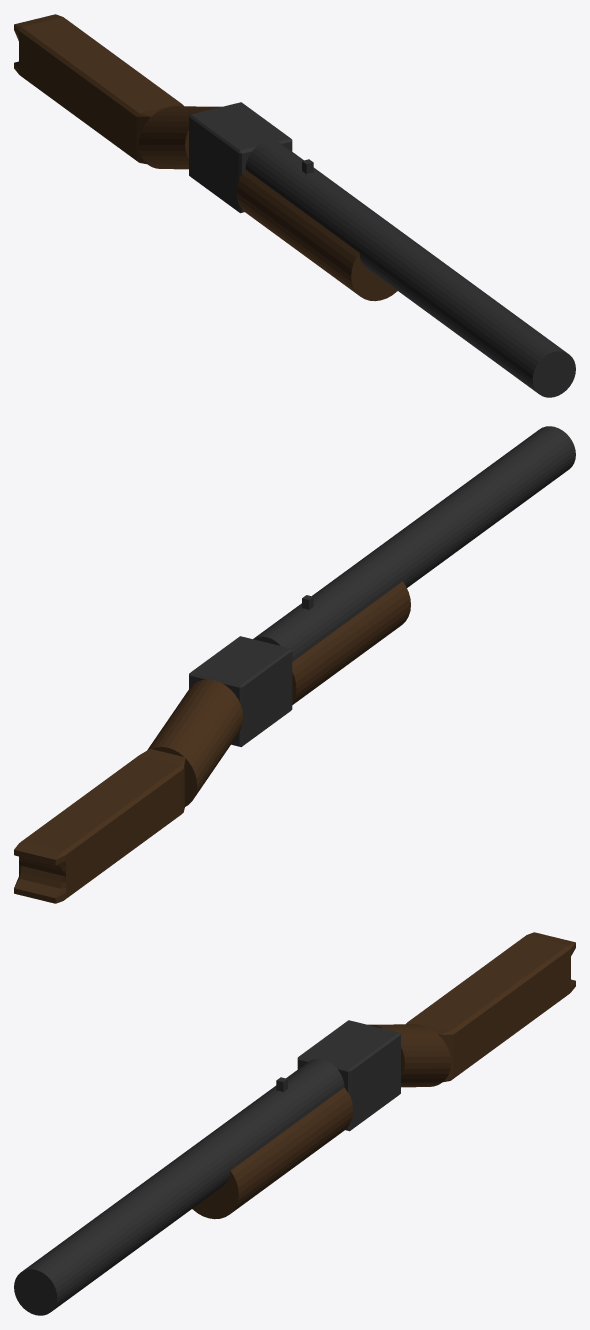
The model's file is RifleWIP.fbx.
The picture shows the model from 3 angles, top to bottom: view 1: azimuth 30°, elevation 25°; view 2: azimuth 150°, elevation 25°; view 3: azimuth 330°, elevation 25°; orthographic projection.
Parts seen in each view (by area): view 1: Cylinder, Cube.001, Cylinder.001, Cube, Cylinder.002; view 2: Cylinder, Cube.001, Cube, Cylinder.002, Cylinder.001; view 3: Cylinder, Cube.001, Cylinder.001, Cube, Cylinder.002.
Part boxes in pixels (x1=…): Cylinder: x1=245, y1=141, x2=575, y2=397; Cube.001: x1=14, y1=14, x2=183, y2=164; Cylinder.001: x1=236, y1=169, x2=397, y2=301; Cube: x1=189, y1=102, x2=292, y2=213; Cylinder.002: x1=138, y1=106, x2=221, y2=169; Cylinder: x1=253, y1=426, x2=575, y2=661; Cube.001: x1=14, y1=748, x2=185, y2=903; Cube: x1=189, y1=636, x2=292, y2=746; Cylinder.002: x1=147, y1=679, x2=243, y2=806; Cylinder.001: x1=292, y1=581, x2=410, y2=704; Cylinder: x1=14, y1=1059, x2=344, y2=1315; Cube.001: x1=406, y1=932, x2=575, y2=1082; Cylinder.001: x1=192, y1=1087, x2=353, y2=1219; Cube: x1=297, y1=1020, x2=400, y2=1131; Cylinder.002: x1=368, y1=1024, x2=451, y2=1087.
Size of the model in its own units: 51.96 by 90.38 by 781.
